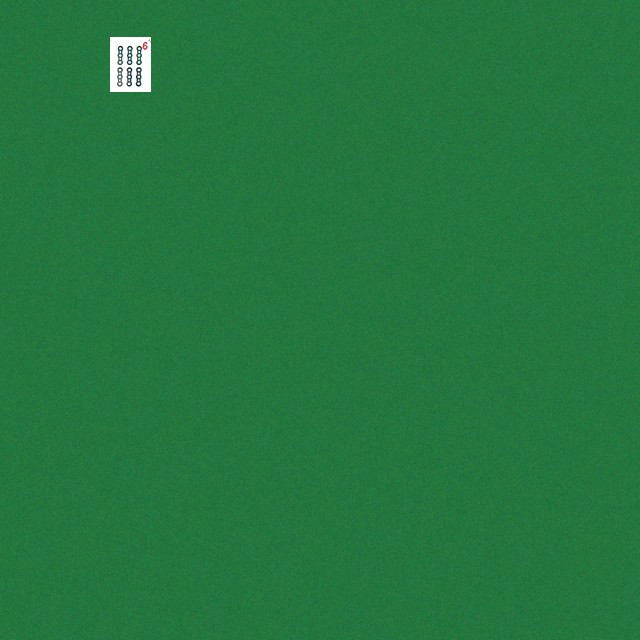tile: (109, 36, 150, 91)
